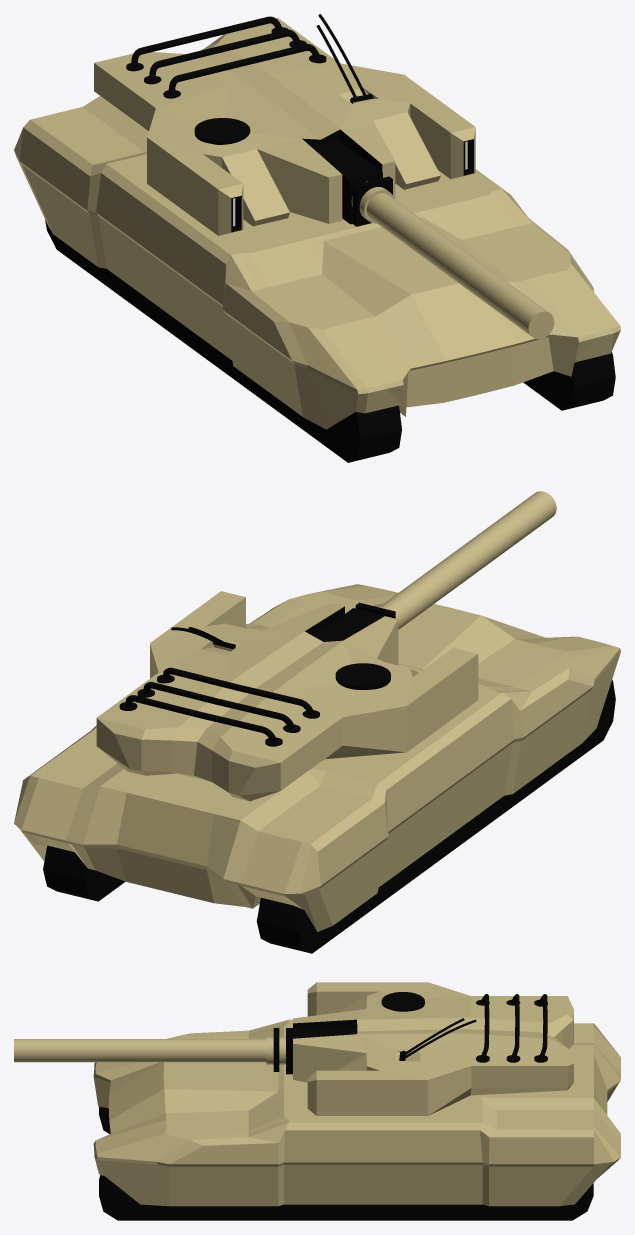
The model's file is Mastodon.fbx.
3 views of the same model, one above another, from view 1: azimuth 30°, elevation 25°; view 2: azimuth 150°, elevation 25°; view 3: azimuth 270°, elevation 25° (orthographic). The views are drawn at different scales.
Visible parts, largest first — view 1: body, turret, wheels, Cylinder, BarrelBase, Back Bar 1, Back Bar 2, Back Bar 3, Top Cylinder, barrel bit; view 2: body, turret, wheels, Cylinder, Top Cylinder, BarrelBase, Back Bar 2, Back Bar 1, Back Bar 3; view 3: body, turret, wheels, Cylinder, BarrelBase, Top Cylinder, Barrel, Back Bar 1, Back Bar 3, Back Bar 2.
Part boxes in pixels (left/top/right/bottom): body: left=14, top=96, right=620, bottom=429; turret: left=94, top=18, right=475, bottom=235; wheels: left=45, top=219, right=615, bottom=462; Cylinder: left=366, top=193, right=554, bottom=339; BarrelBase: left=310, top=139, right=382, bottom=224; Back Bar 1: left=168, top=44, right=320, bottom=94; Back Bar 2: left=149, top=29, right=300, bottom=80; Back Bar 3: left=131, top=16, right=282, bottom=67; Top Cylinder: left=194, top=118, right=250, bottom=144; barrel bit: left=352, top=176, right=392, bottom=226; body: left=14, top=584, right=620, bottom=931; turret: left=96, top=591, right=478, bottom=801; wheels: left=43, top=679, right=615, bottom=953; Cylinder: left=380, top=491, right=556, bottom=629; Top Cylinder: left=335, top=663, right=390, bottom=689; BarrelBase: left=314, top=608, right=385, bottom=641; Back Bar 2: left=143, top=682, right=295, bottom=729; Back Bar 1: left=163, top=667, right=314, bottom=714; Back Bar 3: left=125, top=695, right=277, bottom=742; body: left=93, top=1019, right=620, bottom=1206; turret: left=293, top=982, right=573, bottom=1115; wheels: left=99, top=1106, right=593, bottom=1220; Cylinder: left=14, top=1039, right=266, bottom=1062; BarrelBase: left=286, top=1028, right=357, bottom=1074; Top Cylinder: left=381, top=992, right=424, bottom=1011; Barrel: left=266, top=1036, right=285, bottom=1064; Back Bar 1: left=480, top=994, right=489, bottom=1058; Back Bar 3: left=538, top=994, right=547, bottom=1058; Back Bar 2: left=510, top=994, right=519, bottom=1058.
Bounding box in the file's own units: 603 × 444 × 1352.
